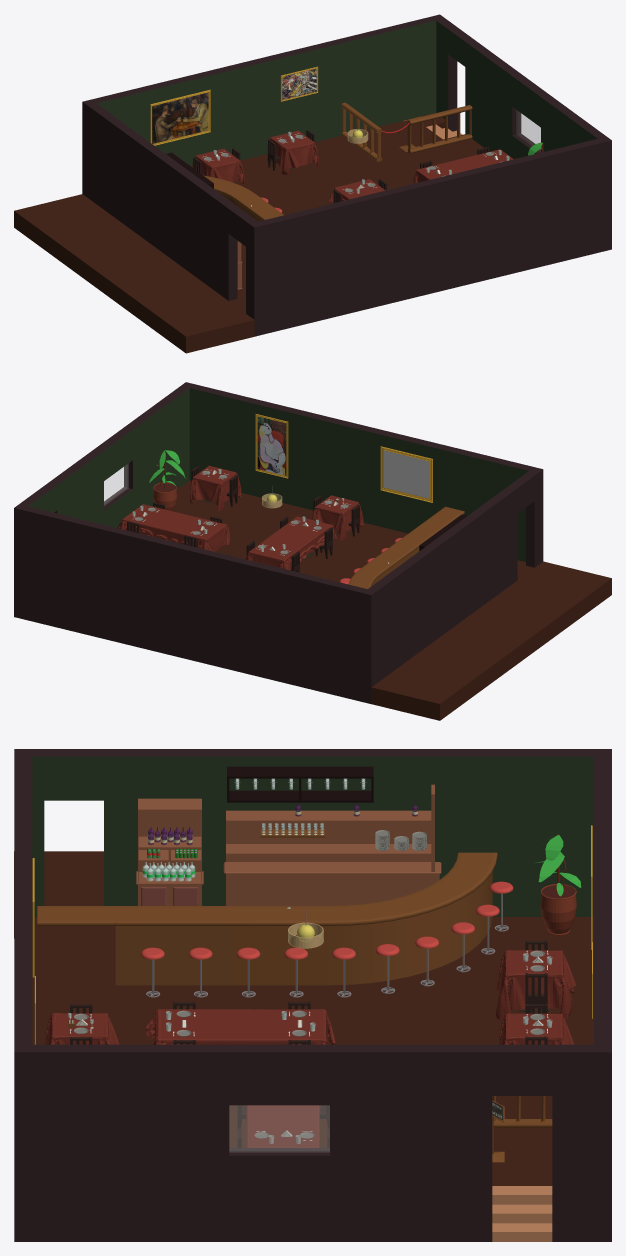
The model's file is restaurante.fbx.
The picture shows the model from 3 angles, top to bottom: view 1: azimuth 30°, elevation 25°; view 2: azimuth 150°, elevation 25°; view 3: azimuth 270°, elevation 25°; orthographic projection. The views are drawn at different scales.
Visible parts, largest first — view 1: Paredes, Chão, Quadro 1, Plane.007, Balcão, Cerca entrada, Plane.004, Plane.006, Cerca entrada 2, Quadro 2, Plane.008, Janela; view 2: Paredes, Chão, Plane.004, Balcão, Quadro 2.002, Plane.008, Quadro 2.001, Plane.003, Plane.005, Janela, Cylinder.008; view 3: Paredes, Chão, Balcão, Cube.008, Plane.008, Armário bebidas, Janela, Prateleira Seg Copos, Plane.006, Escada, Plane.004, Plane.007 (+5 smaller).
Part boxes in pixels (left/top/right/bottom): Paredes: left=82, top=14, right=611, bottom=336; Chão: left=14, top=113, right=486, bottom=353; Quadro 1: left=150, top=89, right=210, bottom=145; Plane.007: left=267, top=130, right=319, bottom=175; Balcão: left=204, top=175, right=283, bottom=221; Cerca entrada: left=407, top=105, right=472, bottom=153; Plane.004: left=413, top=149, right=513, bottom=183; Plane.006: left=192, top=148, right=245, bottom=186; Cerca entrada 2: left=341, top=102, right=382, bottom=161; Quadro 2: left=280, top=66, right=318, bottom=101; Plane.008: left=329, top=179, right=385, bottom=203; Janela: left=516, top=110, right=540, bottom=151; Paredes: left=14, top=382, right=543, bottom=704; Chão: left=173, top=480, right=611, bottom=720; Plane.004: left=118, top=504, right=230, bottom=551; Balcão: left=348, top=506, right=464, bottom=588; Quadro 2.002: left=380, top=446, right=432, bottom=502; Plane.008: left=246, top=516, right=336, bottom=569; Quadro 2.001: left=255, top=414, right=288, bottom=478; Plane.003: left=190, top=465, right=241, bottom=510; Plane.005: left=312, top=495, right=363, bottom=540; Janela: left=104, top=464, right=128, bottom=505; Cylinder.008: left=149, top=450, right=185, bottom=488; Paredes: left=14, top=749, right=611, bottom=1241; Chão: left=14, top=851, right=593, bottom=1185; Balcão: left=37, top=852, right=497, bottom=985; Cube.008: left=223, top=784, right=441, bottom=905; Plane.008: left=145, top=1009, right=335, bottom=1044; Armário bebidas: left=136, top=798, right=203, bottom=905; Janela: left=229, top=1105, right=329, bottom=1151; Prateleira Seg Copos: left=227, top=766, right=373, bottom=802; Plane.006: left=496, top=950, right=575, bottom=1020; Escada: left=492, top=1186, right=552, bottom=1241; Plane.004: left=245, top=1105, right=320, bottom=1147; Plane.007: left=499, top=1013, right=574, bottom=1044.
Bounding box in the file's own units: 1430 × 350 × 1000.
